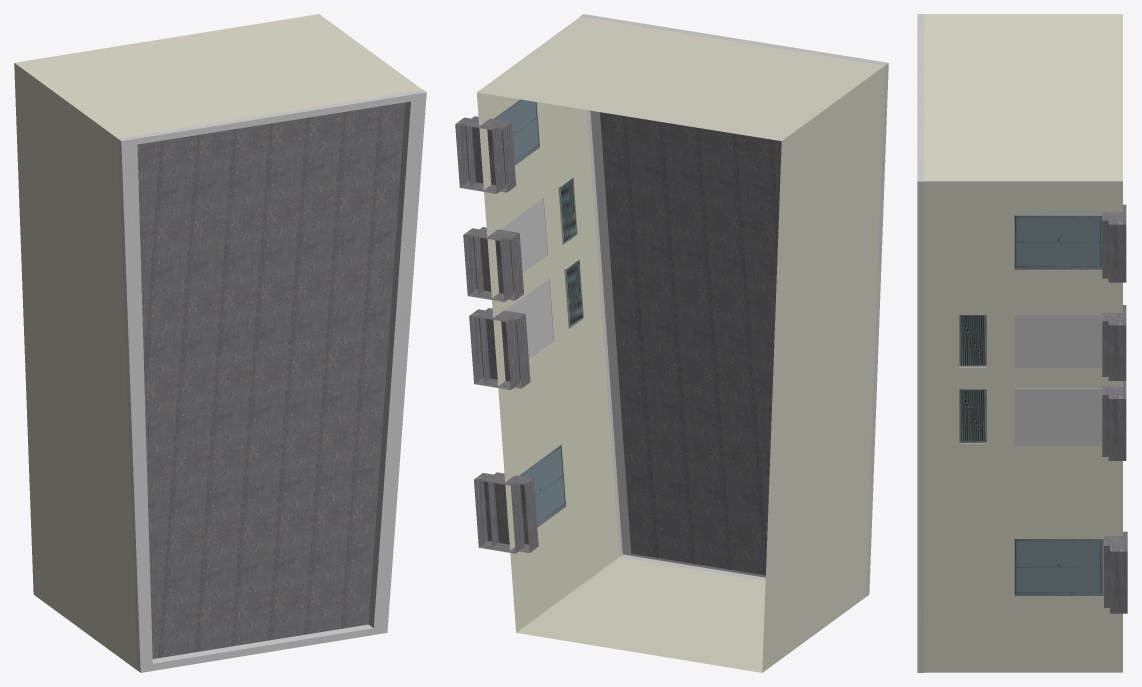
The model's file is Ryytli_tn_8_1.obj.
3 renders of one model, left to right at view 1: azimuth 30°, elevation 25°; view 2: azimuth 150°, elevation 25°; view 3: azimuth 270°, elevation 25°, orthographic. The views are drawn at different scales.
Visible parts, largest first — view 1: polySurface1; view 2: polySurface1; view 3: polySurface1.
Boxes of the visible parts, x1,y1,x2,y2 form: polySurface1: [14, 14, 426, 672]; polySurface1: [455, 14, 888, 672]; polySurface1: [917, 14, 1127, 672].
Bounding box in the file's own units: 8.87 × 14.52 × 5.18.
